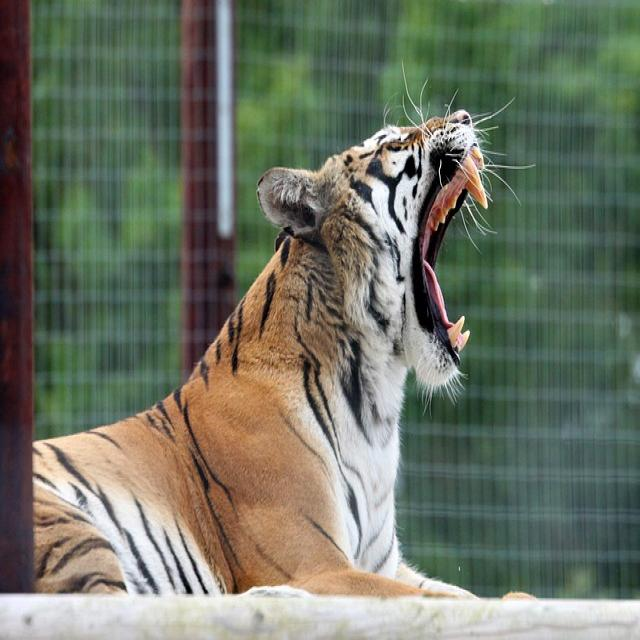Carnivorous: (32, 109, 492, 606)
